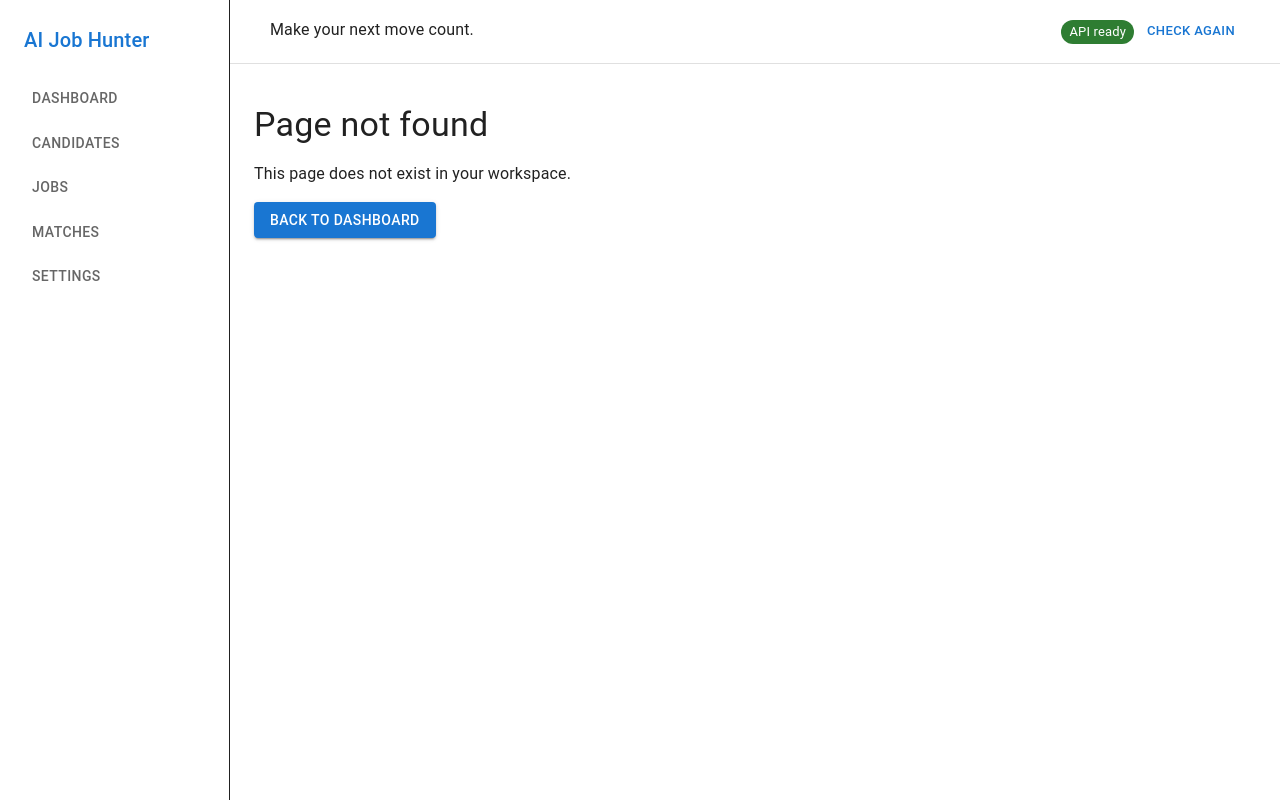
Test: unknown routes show not found and allow navigation home
Check: the heading "Page not found" is shown, box [254,104,488,146]
Click the link "Back to dashboard" at (345, 220), box [254,202,436,238]
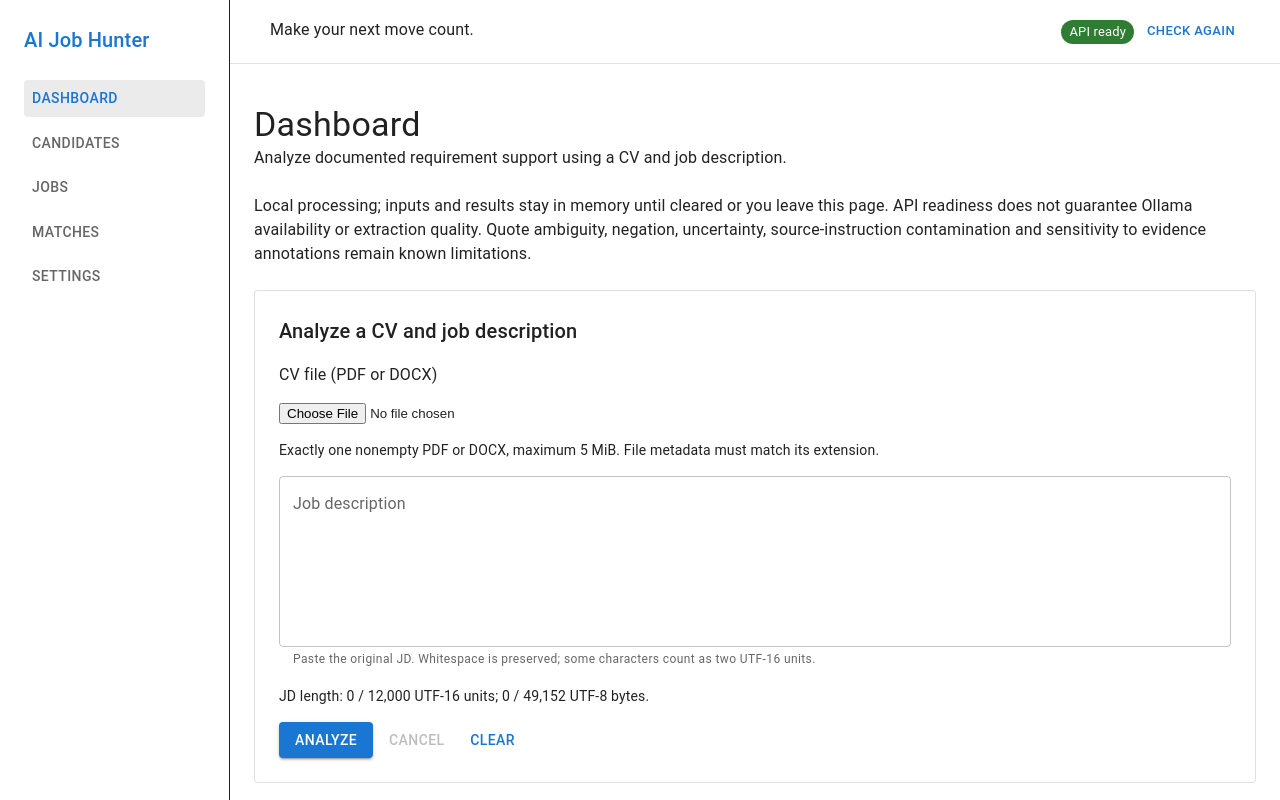
Check: the heading "Dashboard" is shown, box [254,104,421,144]
